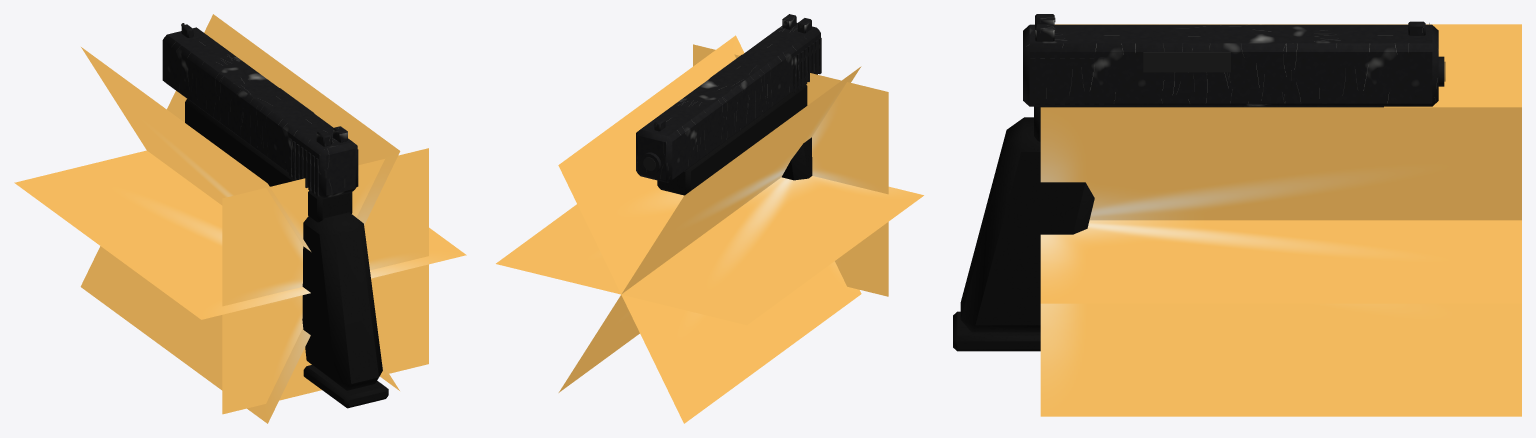
File: handgun.glb
3 views of the same model, side by side, from view 1: azimuth 30°, elevation 25°; view 2: azimuth 150°, elevation 25°; view 3: azimuth 270°, elevation 25° (orthographic). The views are drawn at different scales.
Parts seen in each view (by area): view 1: Handgun_Flash_flash, Handgun_Clean_frame, Handgun_Clean_slide; view 2: Handgun_Flash_flash, Handgun_Clean_slide, Handgun_Clean_frame; view 3: Handgun_Flash_flash, Handgun_Clean_slide, Handgun_Clean_frame, Handgun_Clean_parts.
Part boxes in pixels (x1,y1,x2,y2): Handgun_Flash_flash: [14, 14, 466, 423]; Handgun_Clean_frame: [185, 99, 388, 408]; Handgun_Clean_slide: [162, 24, 358, 198]; Handgun_Flash_flash: [496, 35, 923, 423]; Handgun_Clean_slide: [636, 14, 821, 182]; Handgun_Clean_frame: [657, 84, 812, 195]; Handgun_Flash_flash: [1040, 24, 1521, 416]; Handgun_Clean_slide: [1023, 14, 1444, 106]; Handgun_Clean_frame: [953, 106, 1383, 351]; Handgun_Clean_parts: [1054, 18, 1445, 81].
Bounding box in the file's own units: 0.18 × 0.1784 × 0.26.
Materials: 4 (3 with a texture image).
